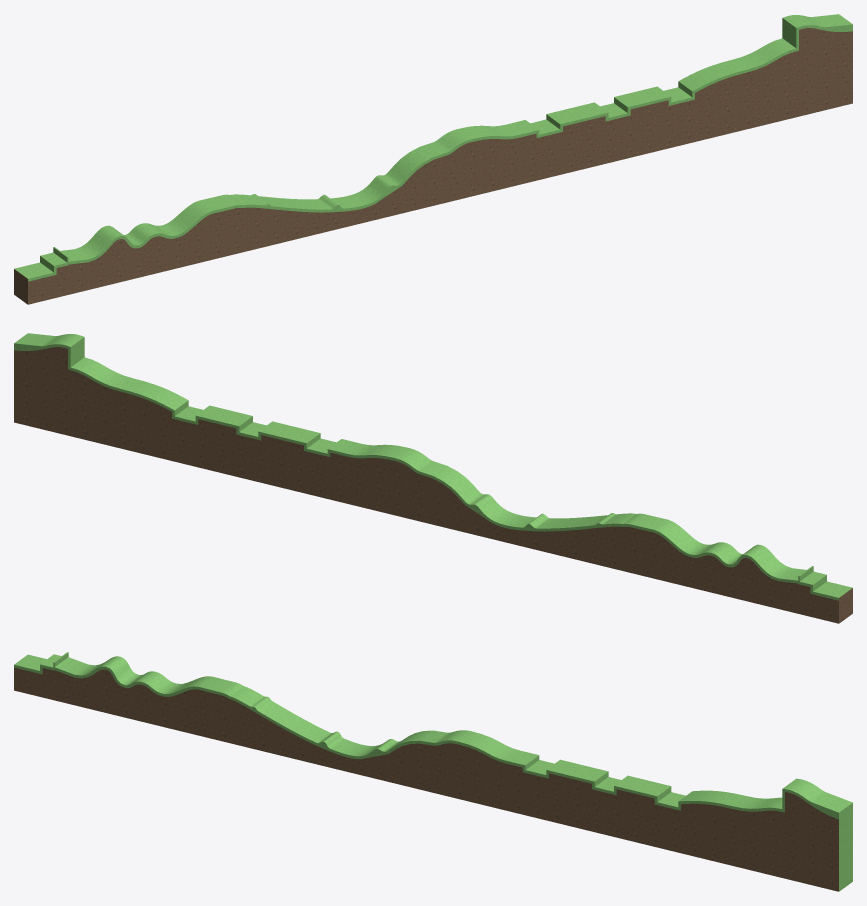
File: GardenBMainMesh.fbx
The picture shows the model from 3 angles, top to bottom: view 1: azimuth 30°, elevation 25°; view 2: azimuth 150°, elevation 25°; view 3: azimuth 330°, elevation 25°; orthographic projection.
Visible parts, largest first — view 1: GardenMeshB; view 2: GardenMeshB; view 3: GardenMeshB.
Boxes of the visible parts, x1=… form: GardenMeshB: x1=14, y1=14, x2=852, y2=304; GardenMeshB: x1=14, y1=333, x2=852, y2=623; GardenMeshB: x1=14, y1=652, x2=852, y2=891.
Bounding box in the file's own units: 23175 × 2410 × 678.
